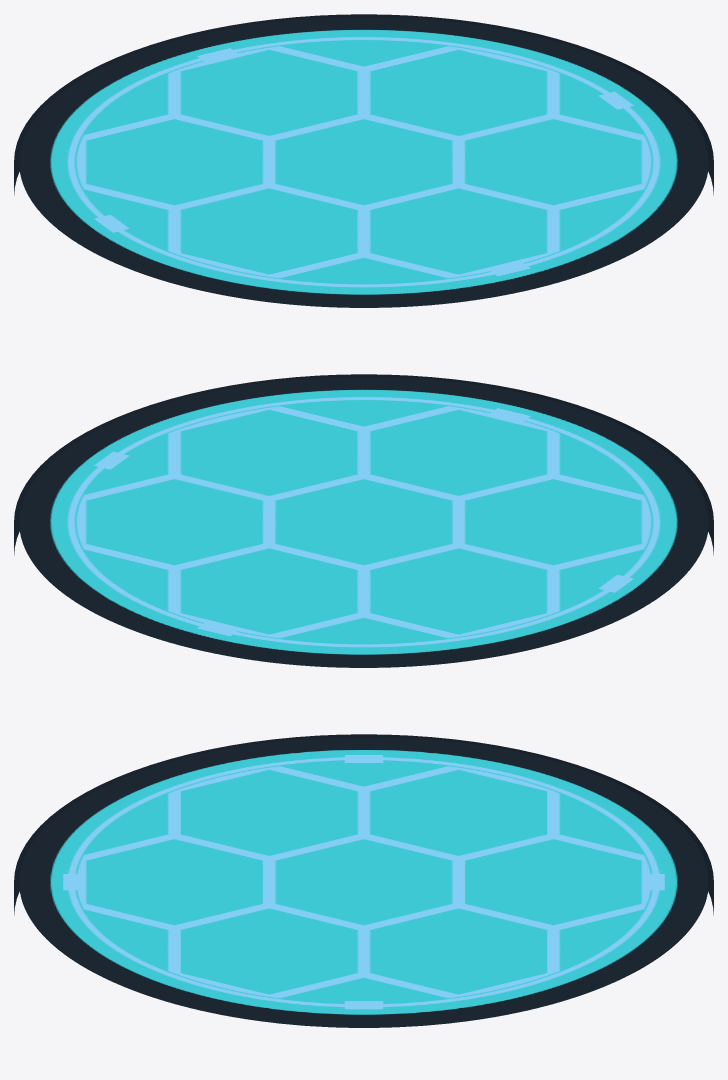
The picture shows the model from 3 angles, top to bottom: view 1: azimuth 30°, elevation 25°; view 2: azimuth 150°, elevation 25°; view 3: azimuth 270°, elevation 25°; orthographic projection.
Bounding box in the file's own units: 2.5 × 0.14 × 2.5.
Materials: 2 (2 with a texture image).
